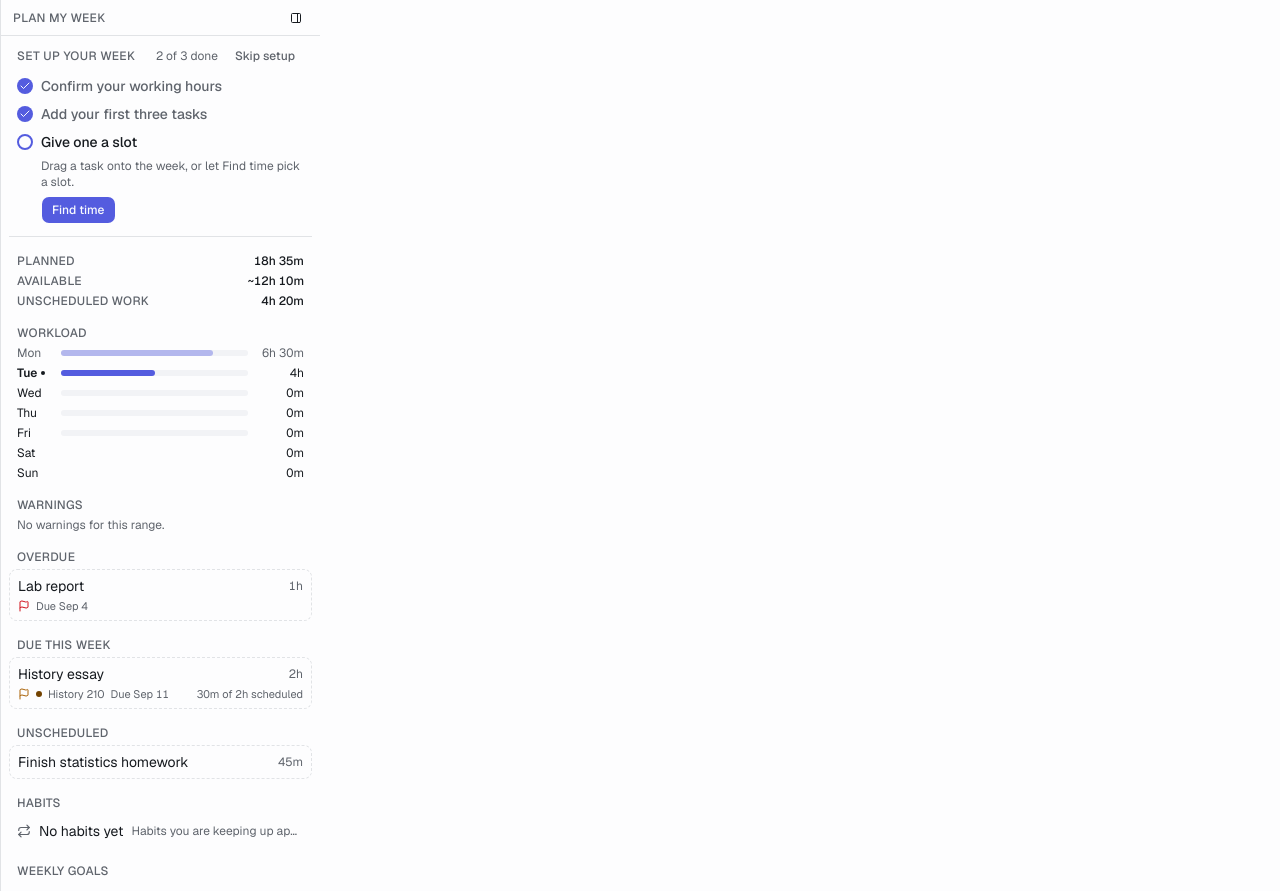
it: PlanningDrawer › renders the first-run checklist above capacity, and its last step opens Find Time for the first row without a slot
Check: the text "2 of 3 done" is shown, box [156,48,218,64]
Click the button "Find time" at (78, 210), box [41,196,116,224]
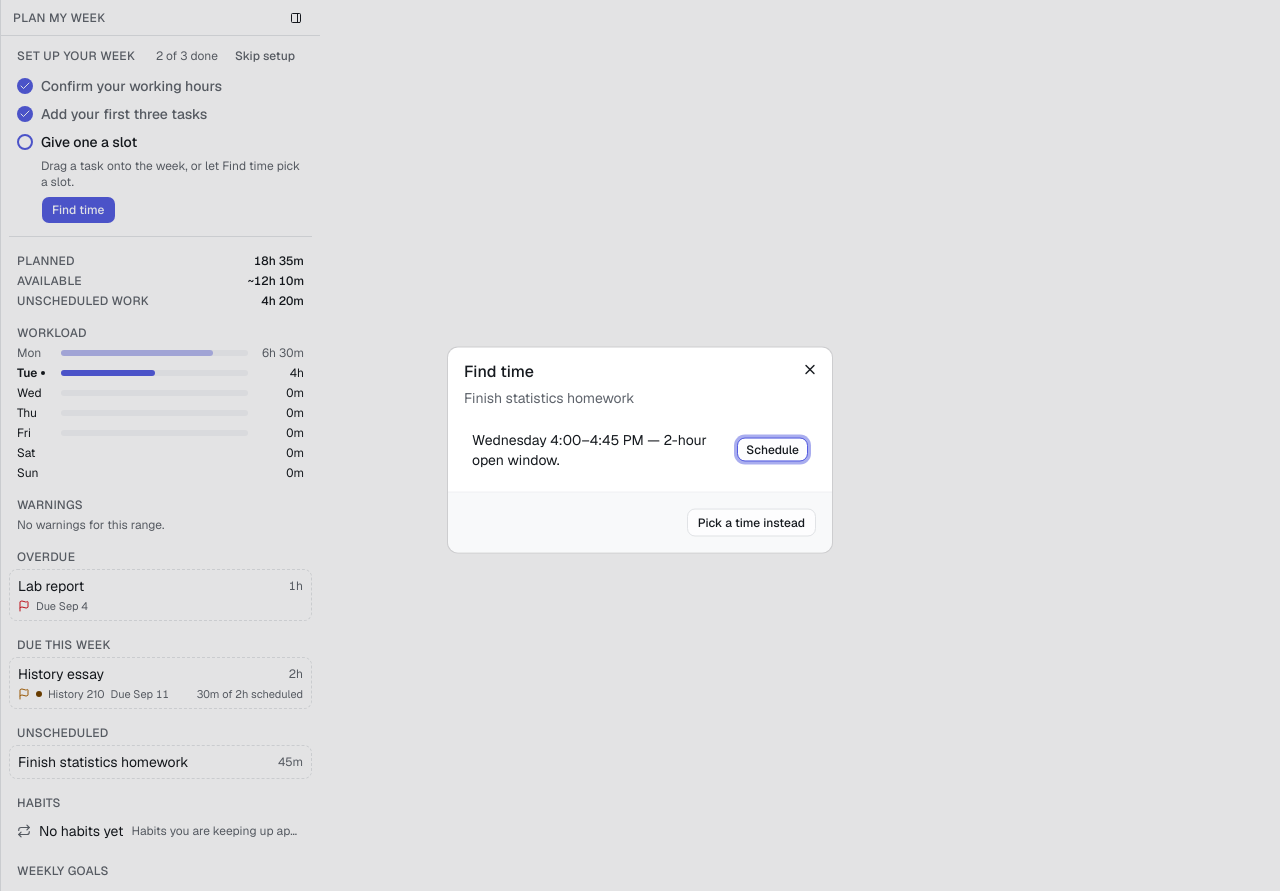
Check: the dialog "Find time" shows "Finish statistics homework", box [464,388,635,406]
